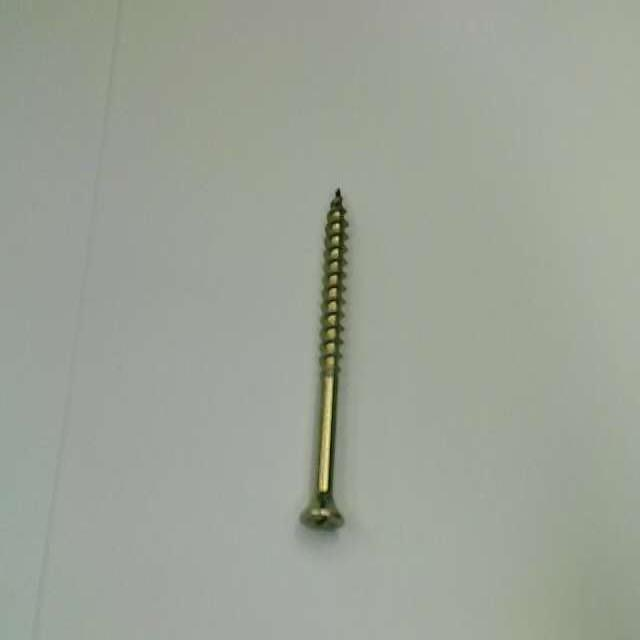Parafuso: (301, 189, 347, 528)
